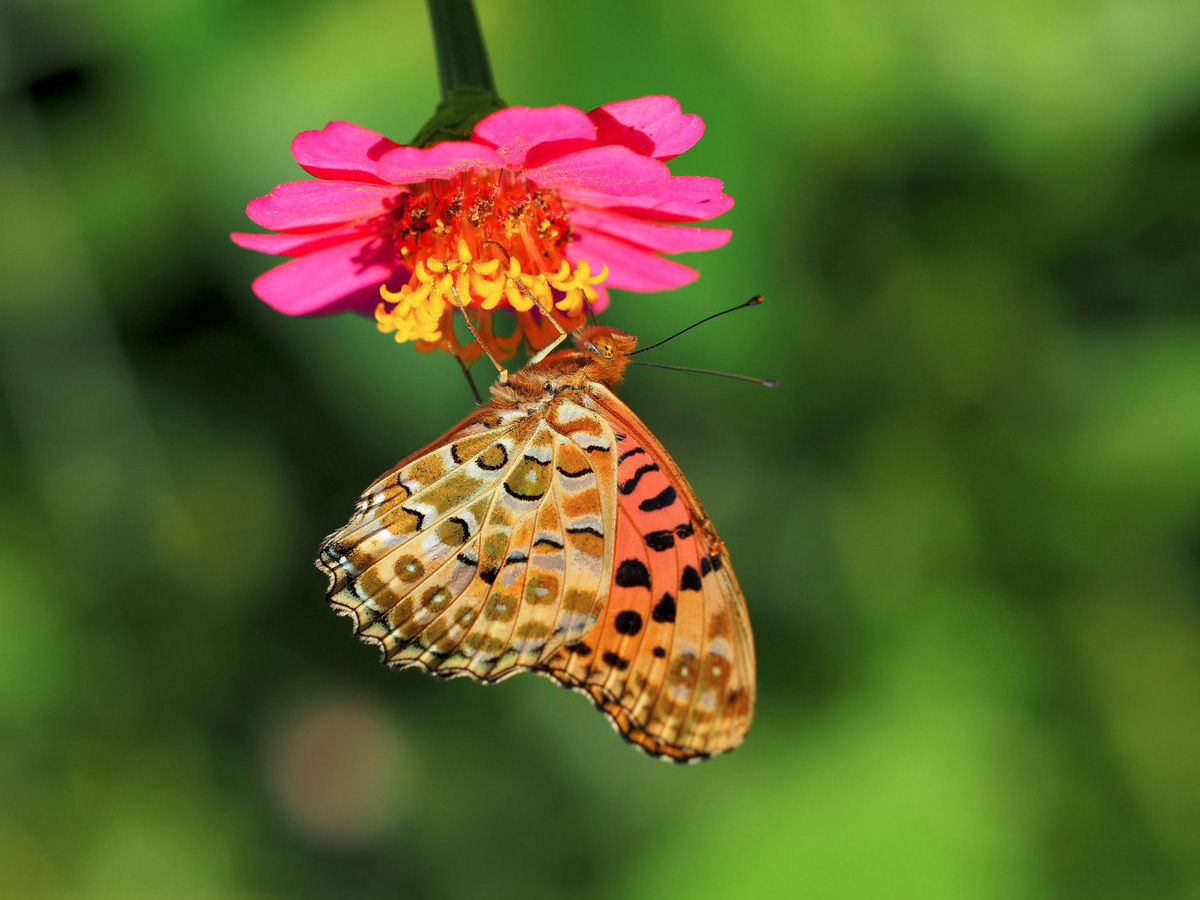Argyreus hyperbius: (317, 281, 798, 771)
butterfly: (315, 279, 796, 769)
